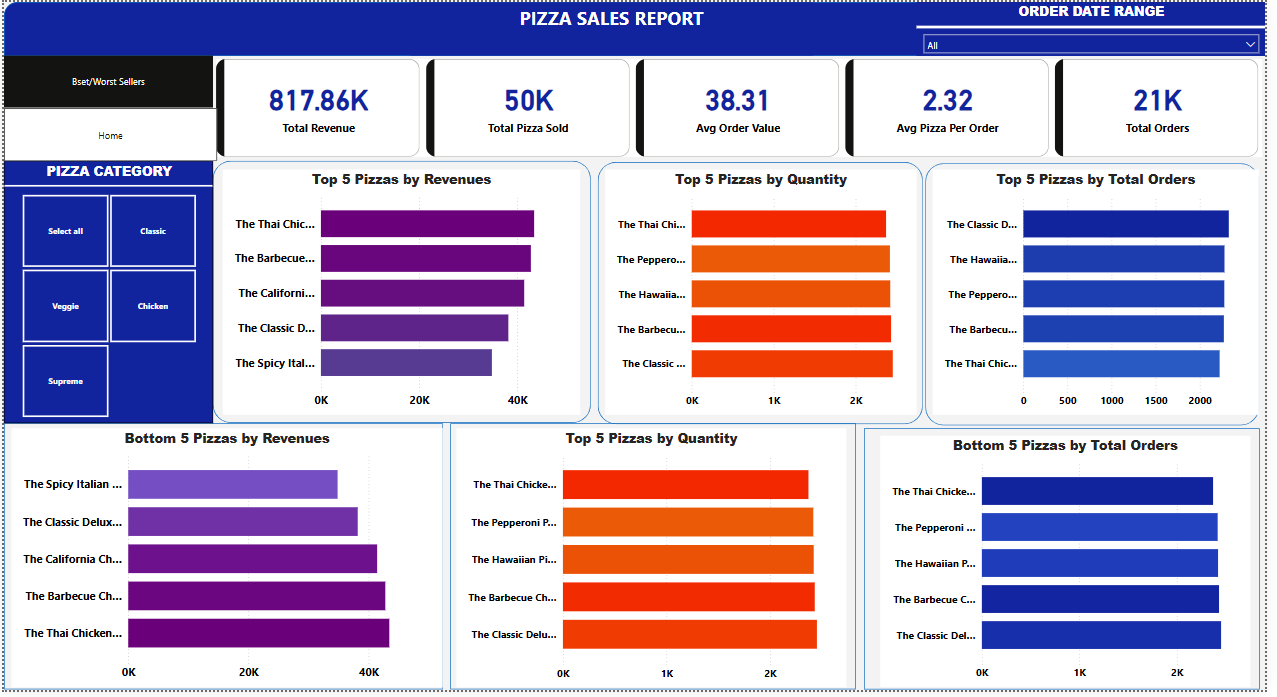

This screenshot's page, from the dashboard's own definition file:
{"tool":"powerbi","page":{"name":"Bset/Worst Sellers ","canvas":[1835,1000],"ordinal":1},"visuals":[{"type":"cardVisual","fields":{"Data":["pizza_sales.Total Revenue","pizza_sales.Total Pizza Sold","pizza_sales.Avg Order Value","pizza_sales.Avg Pizza Per Order","pizza_sales.Total Orders"]},"box":[304.3,78.6,1531.4,152.9],"z":0},{"type":"shape","box":[0,0,1835.7,78.6],"z":1000},{"type":"textbox","box":[591.4,0,585.7,78.6],"z":2000},{"type":"shape","box":[304.3,231.4,550,381.4],"z":3000},{"type":"shape","box":[864.3,232.9,472.9,381.4],"z":4000},{"type":"shape","box":[0,612.9,638.6,387.1],"z":5000},{"type":"shape","box":[1250,620,575.7,380],"z":6000},{"type":"shape","box":[648.6,612.9,590,387.1],"z":7000},{"type":"slicer","title":"PIZZA CATEGORY","fields":{"Values":["pizza_sales.pizza_category"]},"box":[0,231.4,304.3,381.4],"z":8000},{"type":"slicer","title":"ORDER DATE RANGE","fields":{"Values":["pizza_sales.order_date"]},"box":[1327.1,0,508.6,78.6],"z":9000},{"type":"barChart","title":"Top 5 Pizzas by Revenues","fields":{"Category":["pizza_sales.pizza_name"],"Y":["pizza_sales.Total Revenue"]},"box":[318.6,244.3,520,357.1],"z":10000},{"type":"barChart","title":"Top 5 Pizzas by Quantity","fields":{"Category":["pizza_sales.pizza_name"],"Y":["pizza_sales.Total Pizza Sold"]},"box":[874.3,244.3,452.9,357.1],"z":11000},{"type":"shape","box":[1340,234.3,485.7,381.4],"z":12000},{"type":"barChart","title":"Bottom 5 Pizzas by Revenues","fields":{"Category":["pizza_sales.pizza_name"],"Y":["pizza_sales.Total Revenue"]},"box":[11.4,620,627.1,377.1],"z":13000},{"type":"clusteredBarChart","title":"Top 5 Pizzas by Quantity","fields":{"Category":["pizza_sales.pizza_name"],"Y":["pizza_sales.Total Pizza Sold"]},"box":[658.6,620,567.1,377.1],"z":14000},{"type":"barChart","title":"Top 5 Pizzas by Total Orders","fields":{"Category":["pizza_sales.pizza_name"],"Y":["pizza_sales.Total Orders"]},"box":[1351.4,244.3,474.3,357.1],"z":15000},{"type":"barChart","title":"Bottom 5 Pizzas by Total Orders","fields":{"Category":["pizza_sales.pizza_name"],"Y":["pizza_sales.Total Pizza Sold"]},"box":[1274.3,631.4,538.6,365.7],"z":16000},{"type":"pageNavigator","box":[0,154.3,310,77.1],"z":16001},{"type":"pageNavigator","box":[0,78.6,304.3,75.7],"z":16002}]}

Visuals, with their boxes in screenshot pixels (x1, y1, x2, y2), scaled from the page's 1835x1000 canvas onto the 1277x697 screenshot:
cardVisual - pizza_sales.Total Revenue x pizza_sales.Total Pizza Sold: 212 55 1276 161
shape: 0 0 1276 55
textbox: 412 0 819 55
shape: 212 161 595 427
shape: 601 162 931 428
shape: 0 427 444 696
shape: 870 432 1271 696
shape: 451 427 862 696
"PIZZA CATEGORY" slicer: 0 161 212 427
"ORDER DATE RANGE" slicer: 924 0 1276 55
"Top 5 Pizzas by Revenues" barChart: 222 170 584 419
"Top 5 Pizzas by Quantity" barChart: 608 170 924 419
shape: 933 163 1271 429
"Bottom 5 Pizzas by Revenues" barChart: 8 432 444 695
"Top 5 Pizzas by Quantity" clusteredBarChart: 458 432 853 695
"Top 5 Pizzas by Total Orders" barChart: 940 170 1271 419
"Bottom 5 Pizzas by Total Orders" barChart: 887 440 1262 695
pageNavigator: 0 108 216 161
pageNavigator: 0 55 212 108
